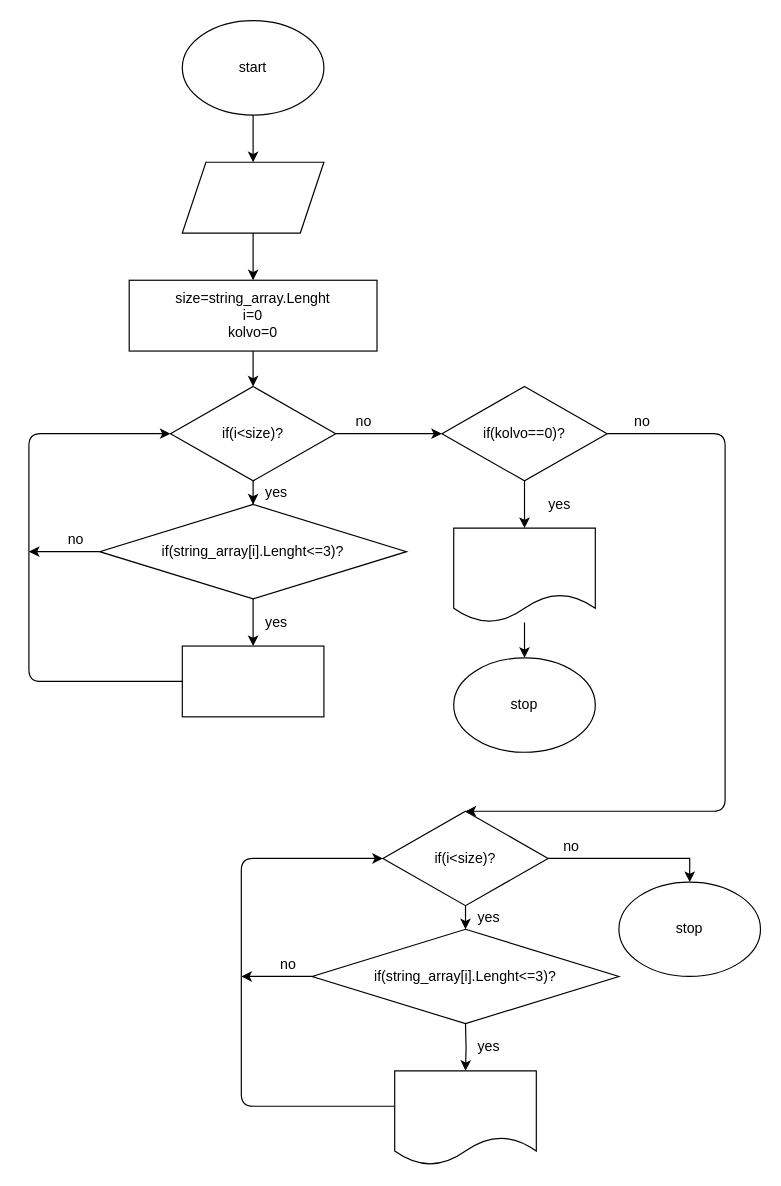
Image size: 781x1186. Some labels were removed from this diagram. Each missing label, with the centre of its shape:
"i++ kolvo++" goes at (252,681).
"print string_array[i]" goes at (465,1117).
"print нет таких слов" goes at (524,574).
"string_array" goes at (252,197).
